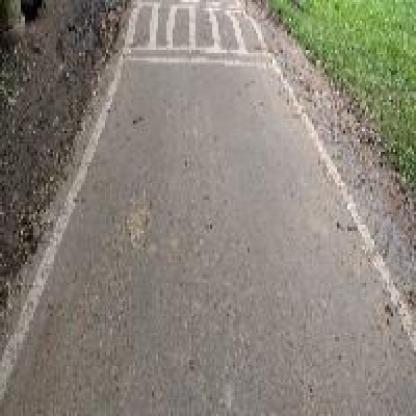Speed Bump: (116, 0, 278, 69)
